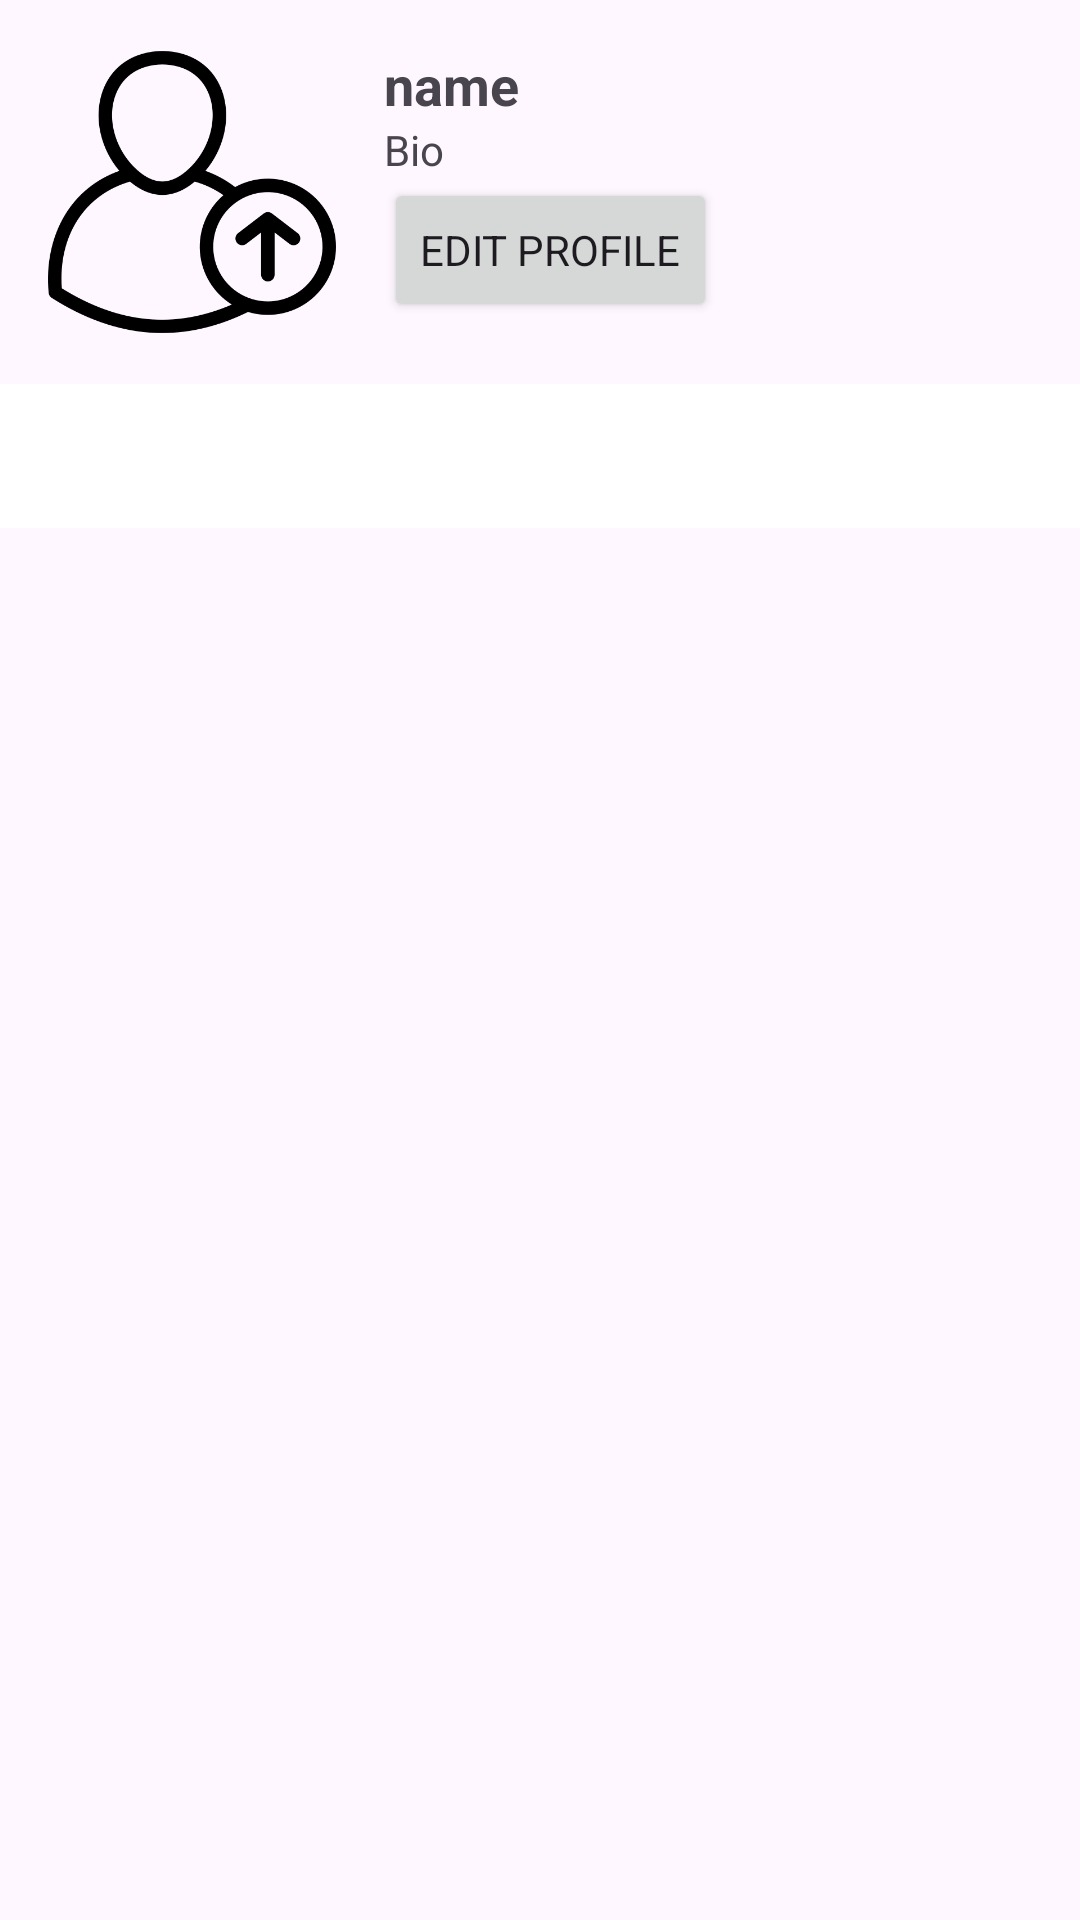

Icons on this 1080px×1920px Android screen, each with the point to tap as (x,y):
profilesingnup: (192,192)
